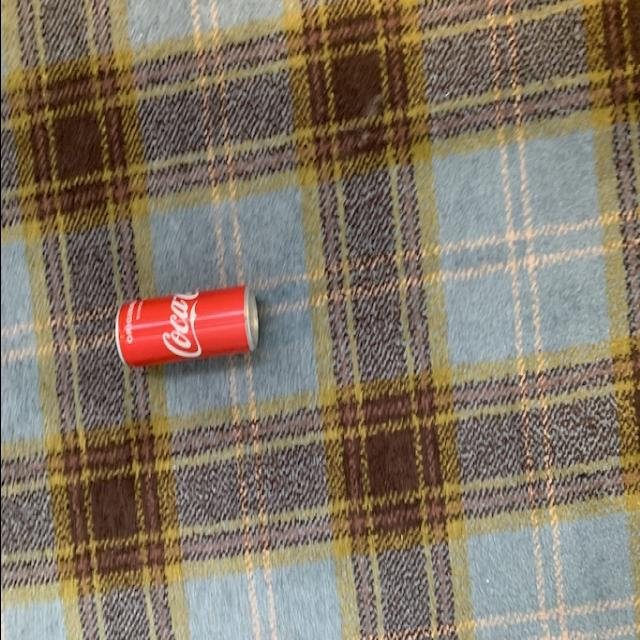Aluminum Can: (110, 286, 260, 376)
